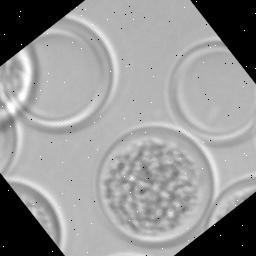picoshell: (94, 121, 220, 247), (6, 16, 120, 132), (167, 38, 256, 146), (8, 176, 67, 250), (0, 45, 38, 130), (207, 177, 256, 229), (0, 101, 17, 171)
